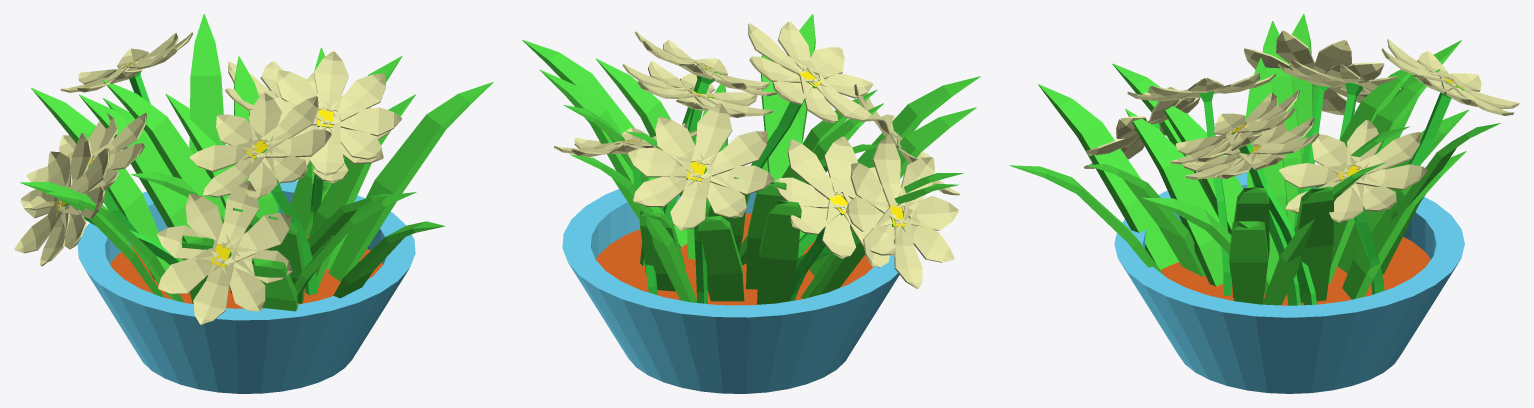
File: ChauHoa.fbx
The picture shows the model from 3 angles, left to right: view 1: azimuth 30°, elevation 25°; view 2: azimuth 150°, elevation 25°; view 3: azimuth 270°, elevation 25°; orthographic projection. The views are drawn at different scales.
Parts seen in each view (by area): view 1: Cylinder; view 2: Cylinder; view 3: Cylinder.
Part boxes in pixels (<box>): Cylinder: <box>14,14,493,393</box>; Cylinder: <box>522,14,980,393</box>; Cylinder: <box>1009,14,1519,393</box>.
Size of the model in its own units: 305 by 184 by 291.
